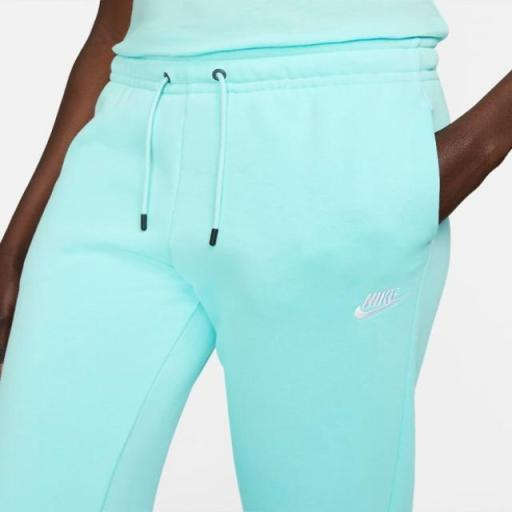Nike: (363, 288, 402, 308), (354, 303, 400, 319)
